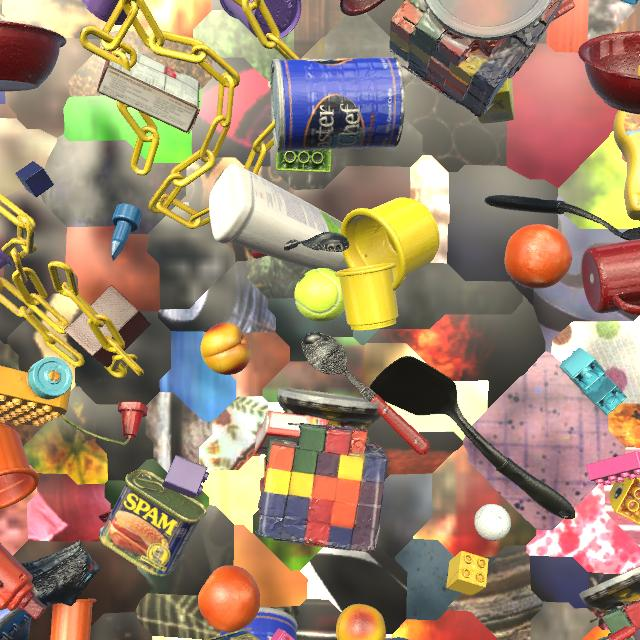ycb_002_master_chef_can: (270, 57, 405, 153), (220, 607, 297, 640)
ycb_004_sugar_box: (477, 78, 514, 124)
ycb_006_mustard_bottle: (613, 65, 640, 221)
ycb_008_pudding_box: (97, 48, 200, 134)
ycb_009_gelatin_box: (254, 410, 329, 455), (550, 0, 576, 23)
ycb_010_potted_meat_can: (100, 469, 207, 577), (205, 630, 260, 640)
ycb_015_peach: (201, 322, 251, 375), (336, 604, 386, 640)
ycb_017_orange: (505, 224, 572, 289), (198, 565, 260, 632)
